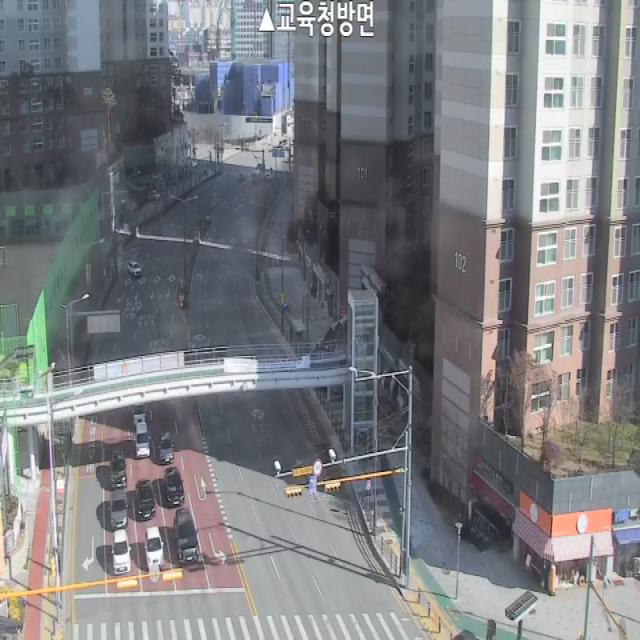Car: (174, 508, 199, 563), (111, 529, 131, 574), (135, 479, 155, 521), (145, 526, 164, 570), (165, 467, 184, 507), (110, 490, 128, 530), (111, 449, 127, 489), (158, 432, 175, 464), (132, 402, 146, 427), (128, 260, 142, 277)
Truck: (133, 423, 151, 458)
